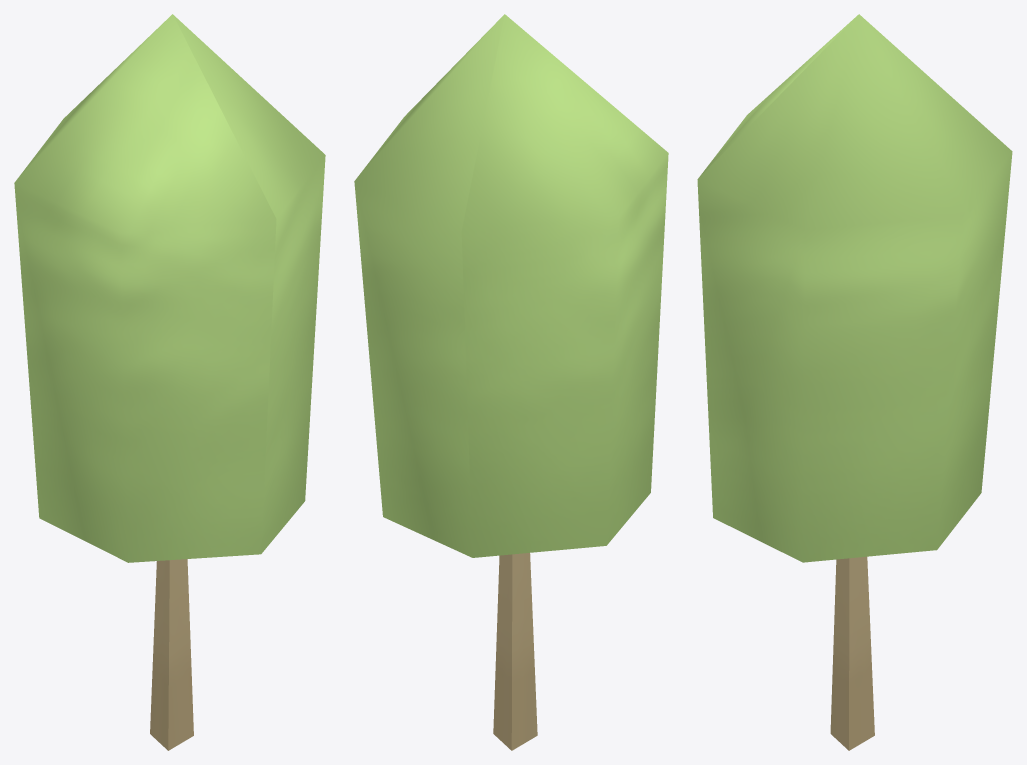
3 views of the same model, side by side, from view 1: azimuth 30°, elevation 25°; view 2: azimuth 150°, elevation 25°; view 3: azimuth 270°, elevation 25° (orthographic).
Parts seen in each view (by area): view 1: LOD2Tree.001; view 2: LOD2Tree.001; view 3: LOD2Tree.001.
Boxes of the visible parts, box(x1,y1,x2,y2) form: LOD2Tree.001: box(14, 14, 325, 750); LOD2Tree.001: box(354, 14, 668, 750); LOD2Tree.001: box(697, 14, 1012, 750).
Bounding box in the file's own units: 7.36 × 19.37 × 7.59.
1 material, 1 textured.
